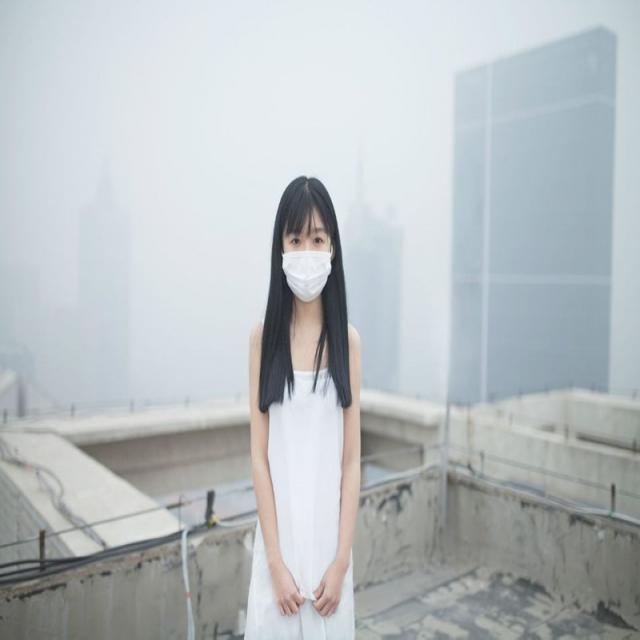mask: (283, 212, 331, 300)
